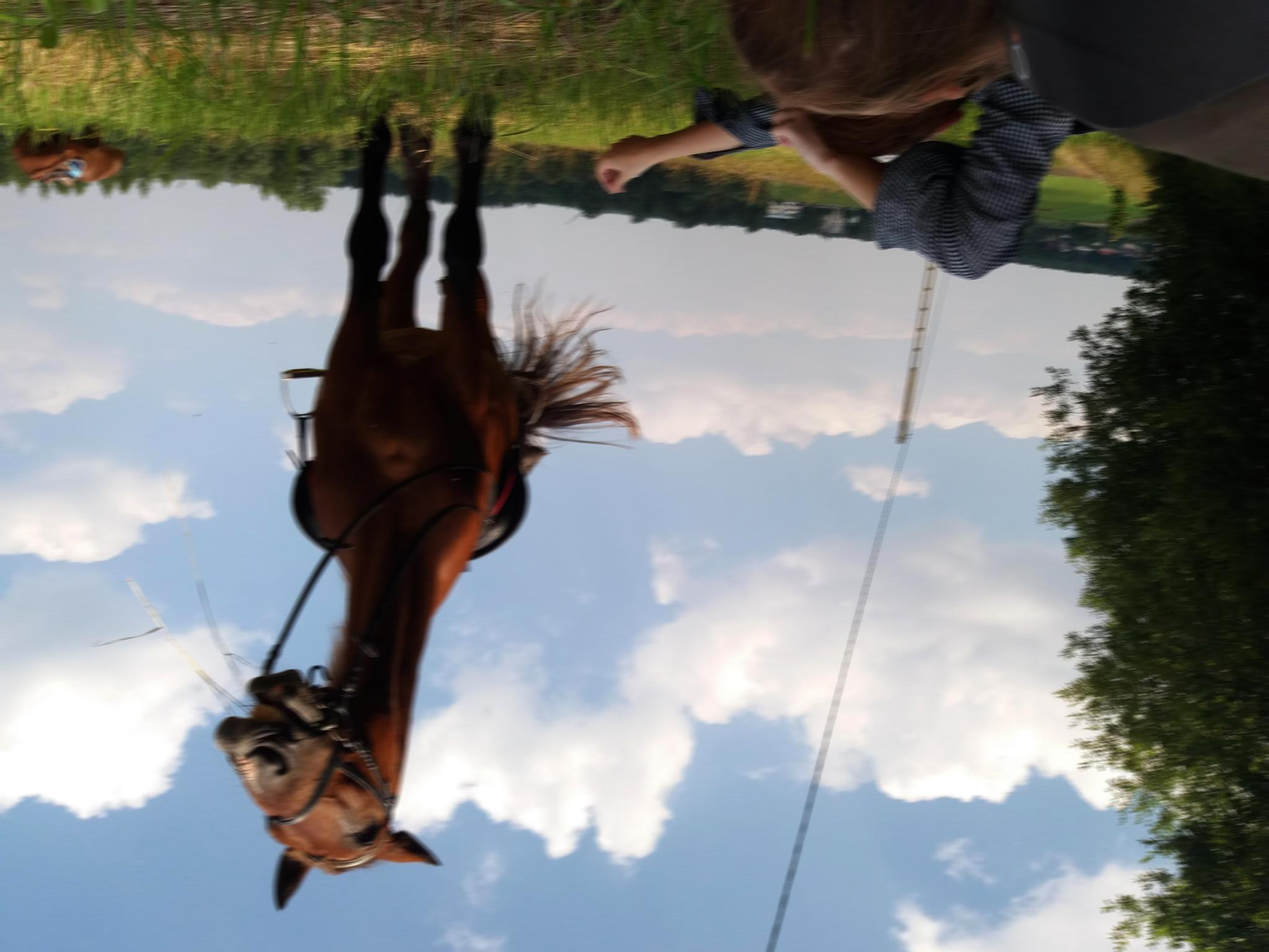horse: (213, 90, 643, 909)
